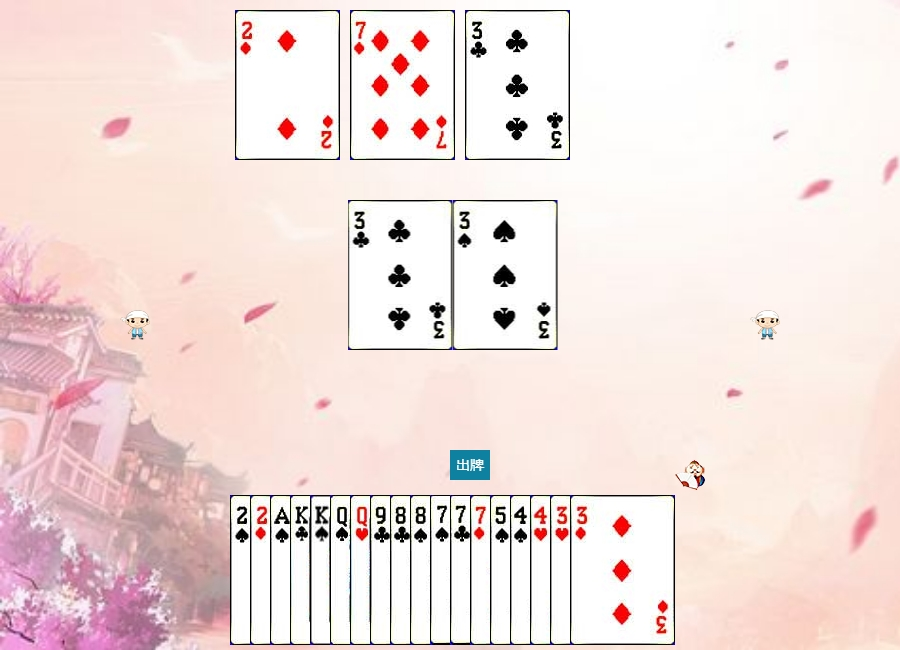12~3: (350, 495, 455, 645)
12~4: (330, 495, 435, 645)
13~2: (290, 495, 395, 645)
13~4: (310, 495, 415, 645)
14~4: (270, 495, 375, 645)
15~1: (235, 10, 340, 160), (250, 495, 355, 645)
15~4: (230, 495, 335, 645)
3~1: (570, 495, 675, 645)
3~2: (465, 10, 570, 160), (348, 200, 453, 350)
3~3: (550, 495, 655, 645)
3~4: (453, 200, 558, 350)
4~3: (530, 495, 635, 645)
4~4: (510, 495, 615, 645)
5~4: (490, 495, 595, 645)
7~1: (350, 10, 455, 160), (470, 495, 575, 645)
7~2: (450, 495, 555, 645)
7~4: (430, 495, 535, 645)
8~2: (390, 495, 495, 645)
8~4: (410, 495, 515, 645)
9~2: (370, 495, 475, 645)
